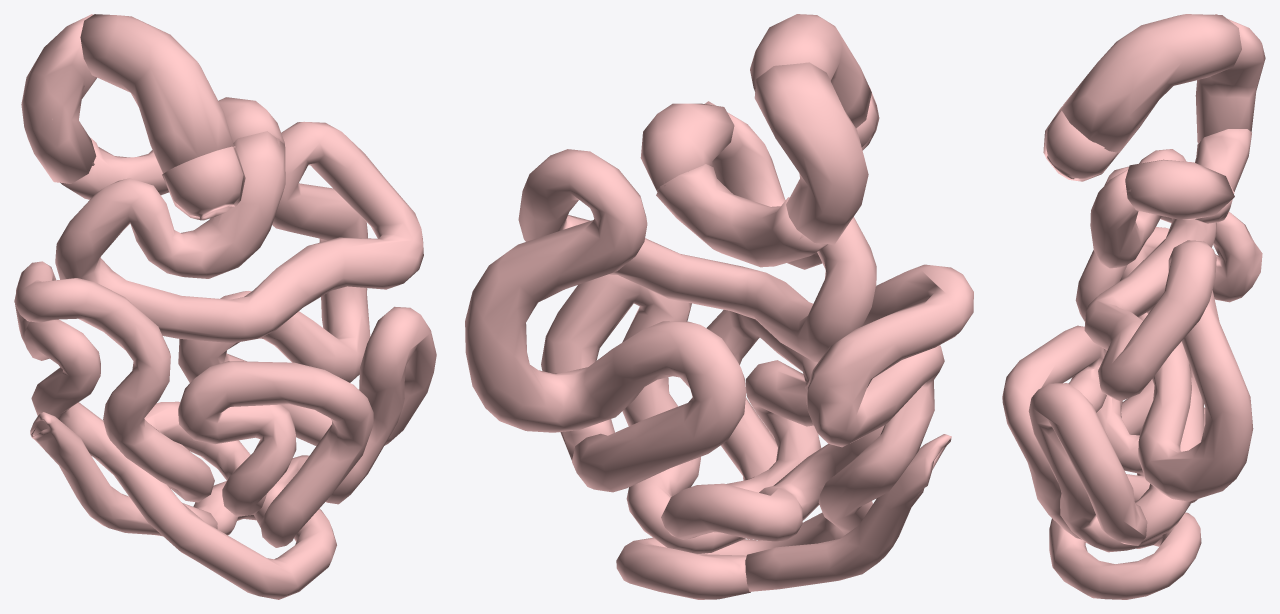
File: 3d-vh-f-small-intestine_lod_20.glb
3 views of the same model, side by side, from view 1: azimuth 30°, elevation 25°; view 2: azimuth 150°, elevation 25°; view 3: azimuth 270°, elevation 25° (orthographic). The views are drawn at different scales.
Parts seen in each view (by area): view 1: VH_F_ileum, VH_F_jejenum, VH_F_duodenum_superior, VH_F_duodenum_descending, VH_F_ileum_terminal, VH_F_duodenal_ampulla, VH_F_duodenum_horizontal, VH_F_duodenum_ascending; view 2: VH_F_ileum, VH_F_jejenum, VH_F_duodenum_descending, VH_F_ileum_terminal, VH_F_duodenum_horizontal, VH_F_duodenum_superior, VH_F_duodenum_ascending; view 3: VH_F_jejenum, VH_F_ileum, VH_F_duodenum_superior, VH_F_duodenum_ascending, VH_F_duodenum_descending, VH_F_duodenal_ampulla, VH_F_duodenum_horizontal.
Boxes of the visible parts, box(x1,y1,x2,y2) form: VH_F_ileum: box(14, 261, 436, 599); VH_F_jejenum: box(55, 121, 423, 445); VH_F_duodenum_superior: box(80, 14, 233, 173); VH_F_duodenum_descending: box(21, 14, 96, 183); VH_F_ileum_terminal: box(30, 412, 217, 536); VH_F_duodenal_ampulla: box(162, 146, 245, 220); VH_F_duodenum_horizontal: box(60, 137, 168, 199); VH_F_duodenum_ascending: box(218, 97, 284, 143); VH_F_ileum: box(541, 264, 973, 599); VH_F_jejenum: box(465, 101, 876, 492); VH_F_duodenum_descending: box(754, 62, 868, 244); VH_F_ileum_terminal: box(745, 434, 951, 591); VH_F_duodenum_horizontal: box(656, 164, 827, 267); VH_F_duodenum_superior: box(750, 14, 871, 128); VH_F_duodenum_ascending: box(640, 103, 734, 191); VH_F_jejenum: box(1084, 149, 1253, 546); VH_F_ileum: box(1002, 166, 1262, 599); VH_F_duodenum_superior: box(1061, 14, 1241, 152); VH_F_duodenum_ascending: box(1125, 159, 1234, 219); VH_F_duodenum_descending: box(1195, 14, 1265, 143); VH_F_duodenal_ampulla: box(1043, 106, 1118, 181); VH_F_duodenum_horizontal: box(1194, 129, 1251, 223).
Size of the model in its own units: 0.1618 by 0.217 by 0.1.
